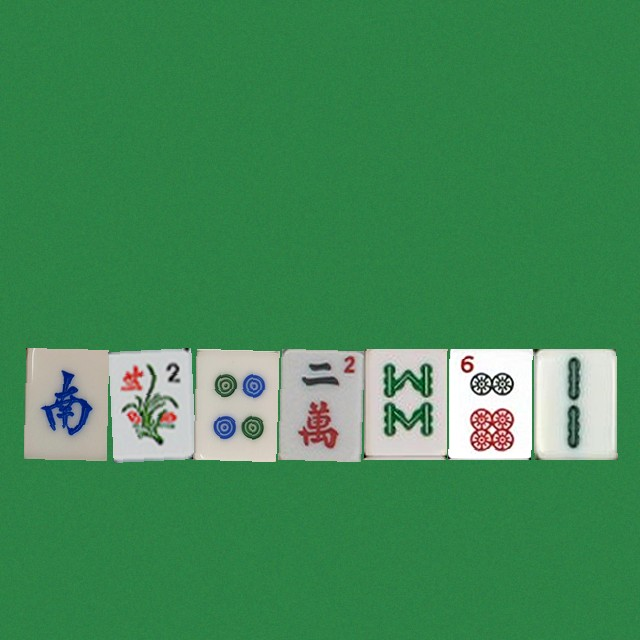tile: (23, 348, 106, 459), (108, 348, 191, 459), (193, 348, 276, 459), (278, 348, 361, 459), (363, 348, 446, 459), (448, 348, 531, 459), (533, 348, 616, 459)
